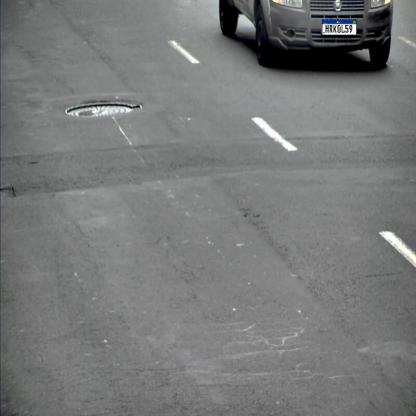PlacaM: (322, 20, 357, 36)
